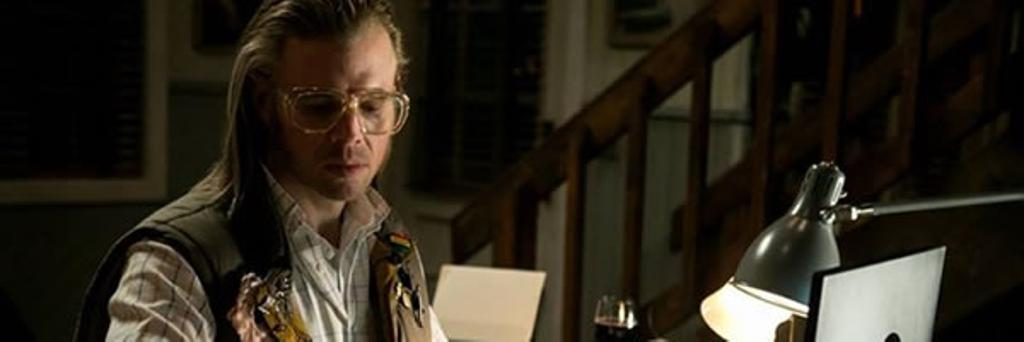face: (278, 24, 400, 198)
